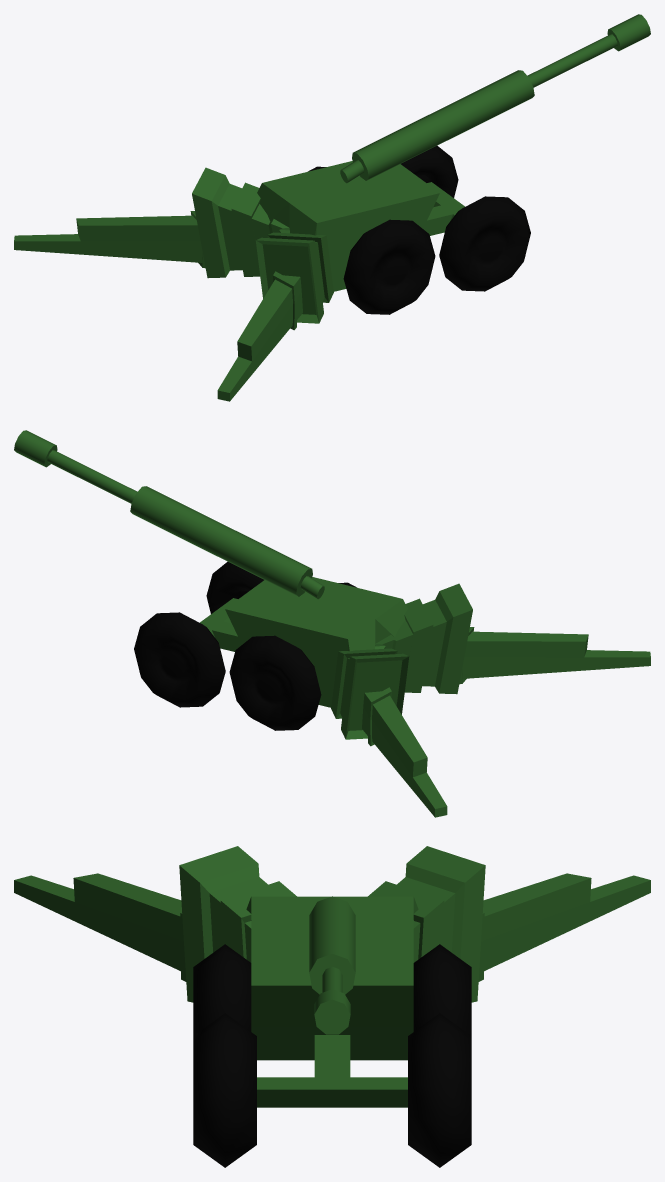
The model's file is Artillery_w.fbx.
3 renders of one model, top to bottom at view 1: azimuth 30°, elevation 25°; view 2: azimuth 150°, elevation 25°; view 3: azimuth 270°, elevation 25°, orthographic. The views are drawn at different scales.
Visible parts, largest first — view 1: artillery, Wheels, gun; view 2: artillery, Wheels, gun; view 3: artillery, Wheels, gun.
Boxes of the visible parts, bbox=[...] form: artillery: bbox=[14, 161, 464, 401]; Wheels: bbox=[308, 145, 530, 314]; gun: bbox=[340, 14, 650, 183]; artillery: bbox=[200, 577, 650, 817]; Wheels: bbox=[134, 561, 356, 730]; gun: bbox=[14, 430, 324, 599]; artillery: bbox=[14, 846, 650, 1107]; Wheels: bbox=[193, 944, 471, 1167]; gun: bbox=[309, 896, 355, 1034].
Size of the model in its own units: 1320 by 483 by 927.
